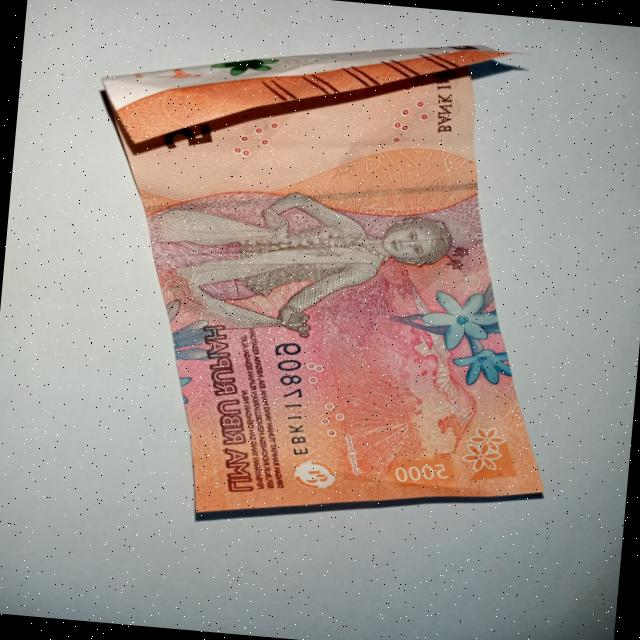5K: (42, 1, 594, 564)
